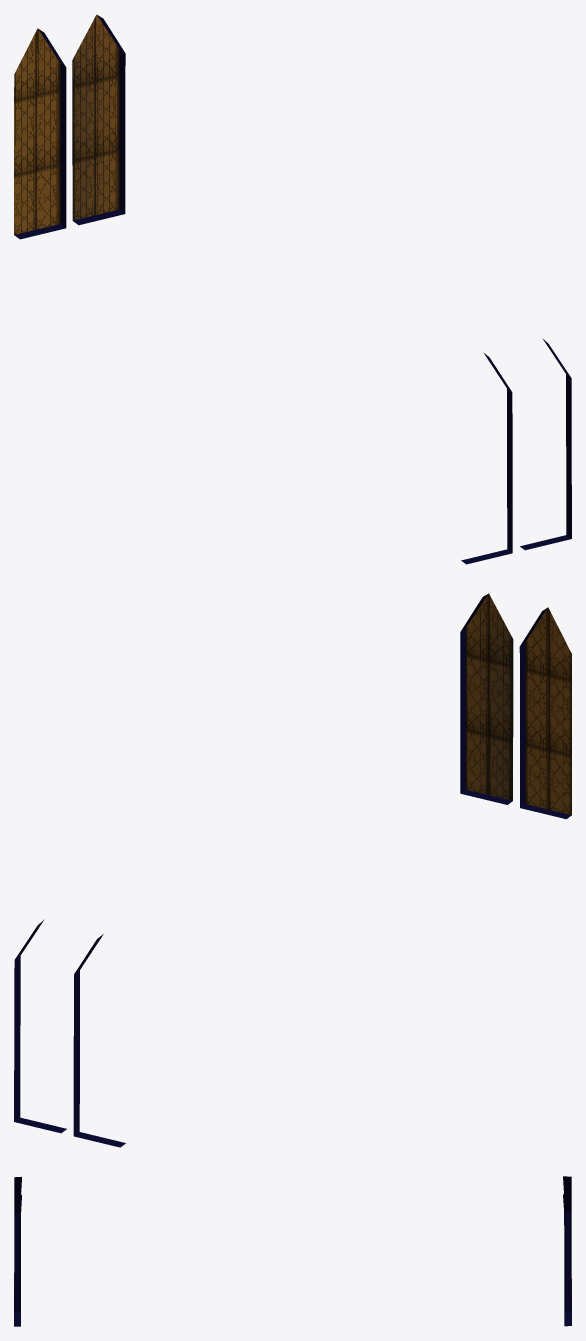
The model's file is windows.glb.
The picture shows the model from 3 angles, top to bottom: view 1: azimuth 30°, elevation 25°; view 2: azimuth 150°, elevation 25°; view 3: azimuth 270°, elevation 25°; orthographic projection. The views are drawn at different scales.
Parts seen in each view (by area): view 1: windows; view 2: windows; view 3: windows.
Boxes of the visible parts, x1,y1,x2,y2 form: windows: (14, 14, 571, 564); windows: (14, 593, 571, 1147); windows: (14, 1176, 571, 1326).
Bounding box in the file's own units: 41.6 × 74.96 × 303.
Materials: 2 (1 with a texture image).
